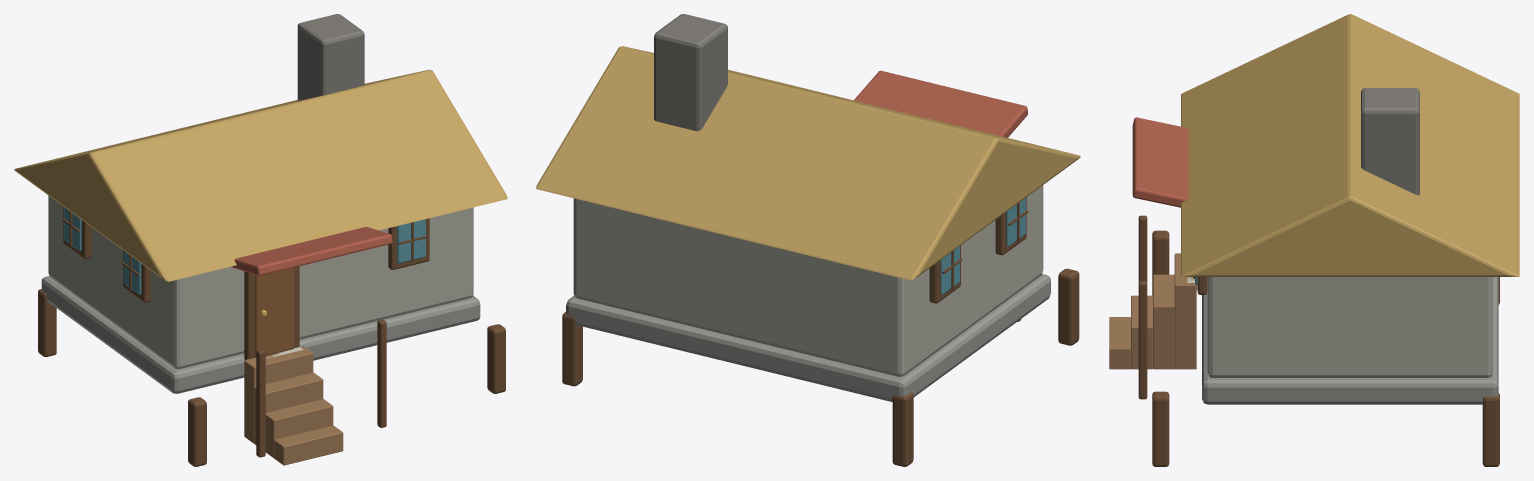
Rendered from wetland-workshop-0.glb.
The picture shows the model from 3 angles, left to right: view 1: azimuth 30°, elevation 25°; view 2: azimuth 150°, elevation 25°; view 3: azimuth 270°, elevation 25°; orthographic projection. The views are drawn at different scales.
Visible parts, largest first — view 1: Golden thatch, Fieldstone, Dark beams, Foundation stone, Aged oak, Soot stone, Clay tiles, Door oak, Blue glass; view 2: Golden thatch, Fieldstone, Foundation stone, Soot stone, Dark beams, Clay tiles, Blue glass; view 3: Golden thatch, Fieldstone, Foundation stone, Aged oak, Soot stone, Dark beams, Clay tiles.
Part boxes in pixels (bbox=[...]): Golden thatch: bbox=[14, 69, 507, 281]; Fieldstone: bbox=[48, 195, 473, 369]; Dark beams: bbox=[38, 206, 505, 466]; Foundation stone: bbox=[41, 276, 480, 393]; Aged oak: bbox=[244, 346, 343, 465]; Soot stone: bbox=[297, 14, 364, 100]; Clay tiles: bbox=[230, 226, 392, 275]; Door oak: bbox=[255, 267, 294, 357]; Blue glass: bbox=[64, 207, 425, 294]; Golden thatch: bbox=[536, 46, 1080, 280]; Fieldstone: bbox=[573, 185, 1043, 376]; Foundation stone: bbox=[566, 274, 1050, 401]; Soot stone: bbox=[654, 14, 727, 131]; Dark beams: bbox=[562, 197, 1079, 466]; Clay tiles: bbox=[854, 70, 1027, 137]; Blue glass: bbox=[940, 198, 1025, 294]; Golden thatch: bbox=[1181, 14, 1519, 276]; Fieldstone: bbox=[1207, 277, 1492, 377]; Foundation stone: bbox=[1202, 277, 1498, 404]; Aged oak: bbox=[1109, 253, 1196, 369]; Soot stone: bbox=[1361, 88, 1419, 195]; Dark beams: bbox=[1138, 215, 1499, 466]; Clay tiles: bbox=[1132, 117, 1188, 207].
Bounding box in the file's own units: 4.6 × 3.87 × 4.32.
